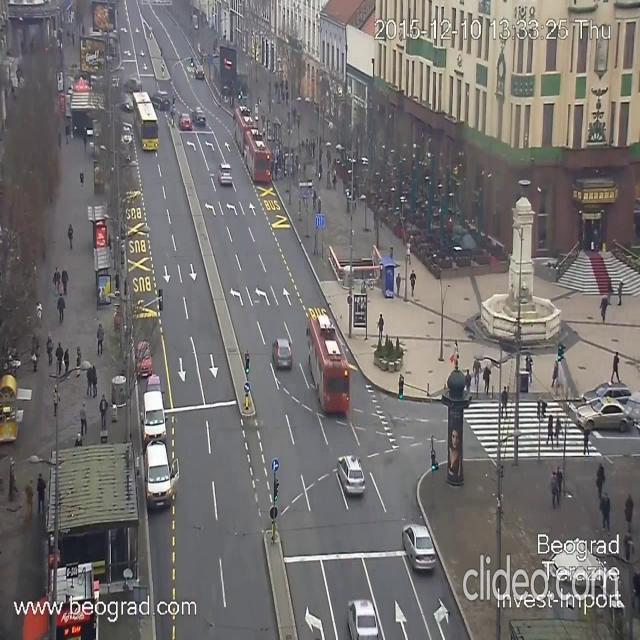bus: (306, 313, 350, 414), (132, 90, 158, 150), (243, 134, 269, 190), (234, 107, 264, 150)
car: (576, 390, 632, 434), (143, 443, 175, 505), (142, 393, 172, 453), (402, 522, 436, 572), (346, 598, 378, 639), (337, 454, 365, 496), (585, 384, 631, 399), (136, 341, 152, 383), (274, 338, 292, 369), (153, 90, 171, 116), (220, 164, 236, 192), (117, 119, 131, 149), (147, 372, 162, 399), (117, 84, 130, 110), (124, 78, 142, 92), (180, 114, 190, 130), (196, 108, 204, 126), (194, 64, 204, 76)
